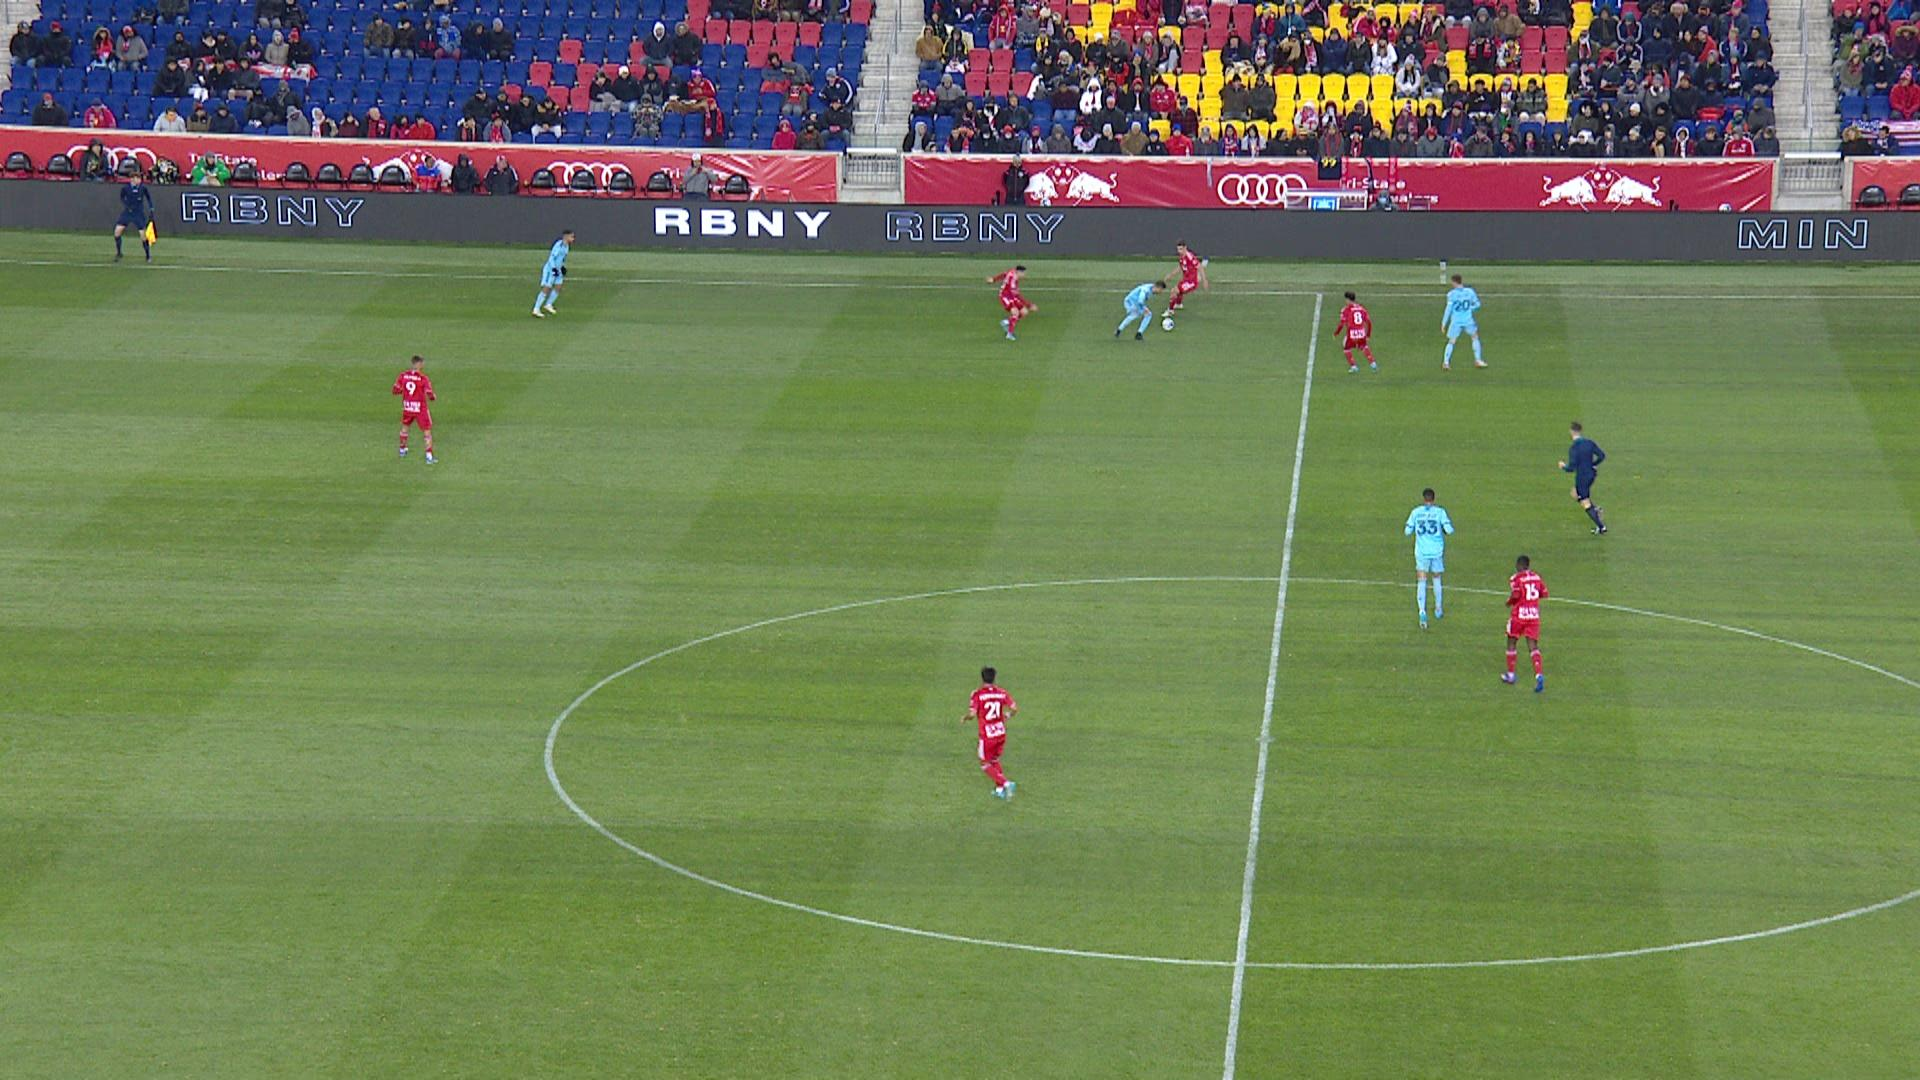football: (1161, 317, 1175, 332)
